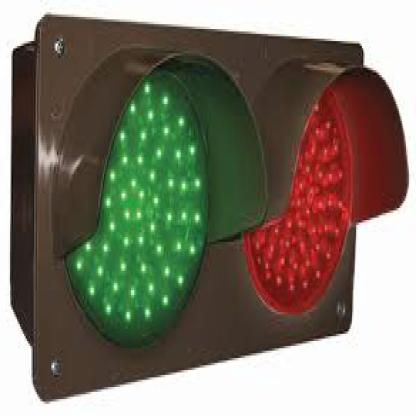traffic-light: (36, 58, 389, 356)
